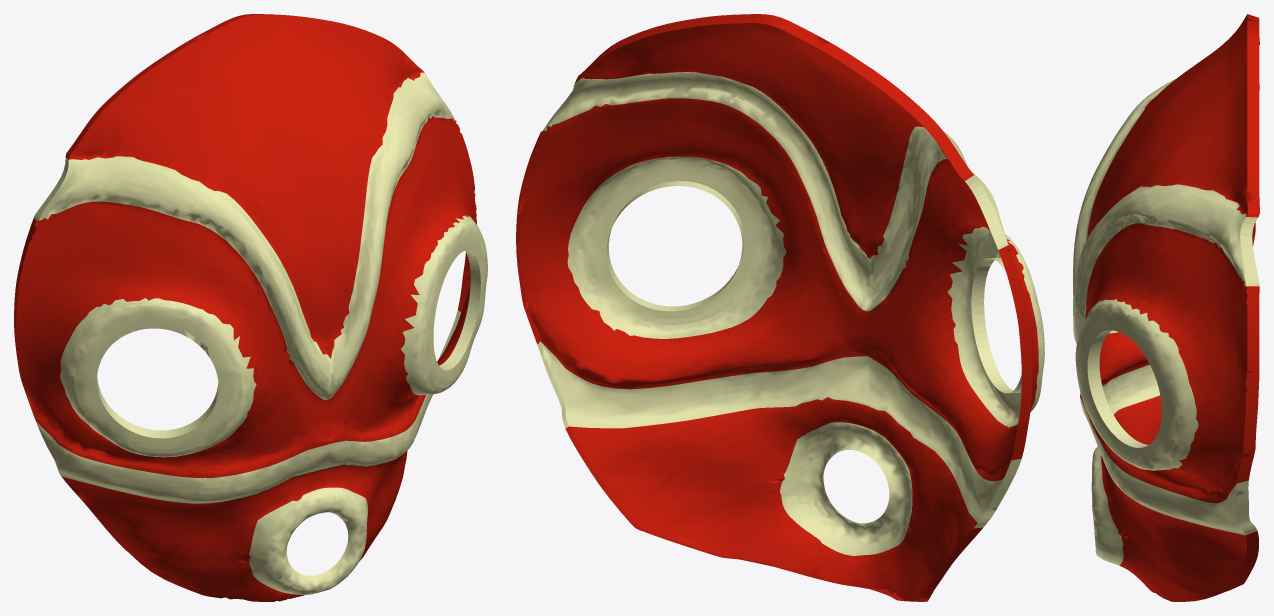
The model's file is masque-mononoke.glb.
3 renders of one model, left to right at view 1: azimuth 30°, elevation 25°; view 2: azimuth 150°, elevation 25°; view 3: azimuth 270°, elevation 25°, orthographic. The views are drawn at different scales.
Parts seen in each view (by area): view 1: Plane_0; view 2: Plane_0; view 3: Plane_0.
Boxes of the visible parts, bbox=[...] form: Plane_0: bbox=[14, 14, 487, 601]; Plane_0: bbox=[516, 14, 1044, 601]; Plane_0: bbox=[1073, 14, 1259, 601].
Bounding box in the file's own units: 1.63 × 1.84 × 0.5724.
